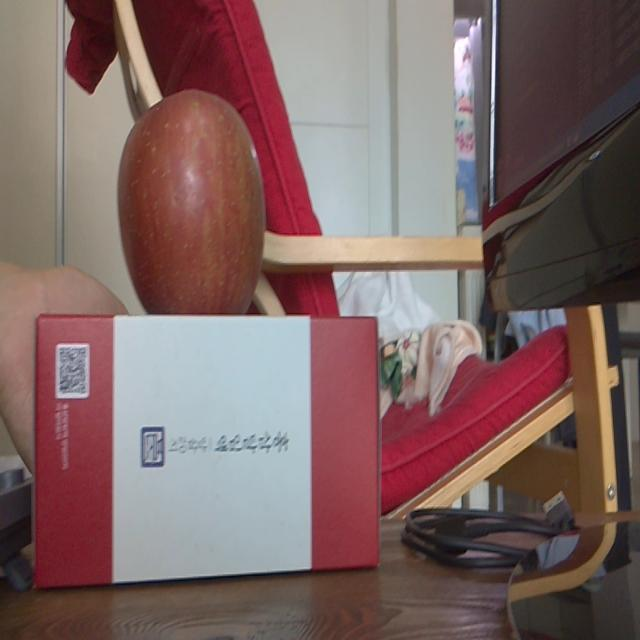apple: (113, 82, 271, 315)
